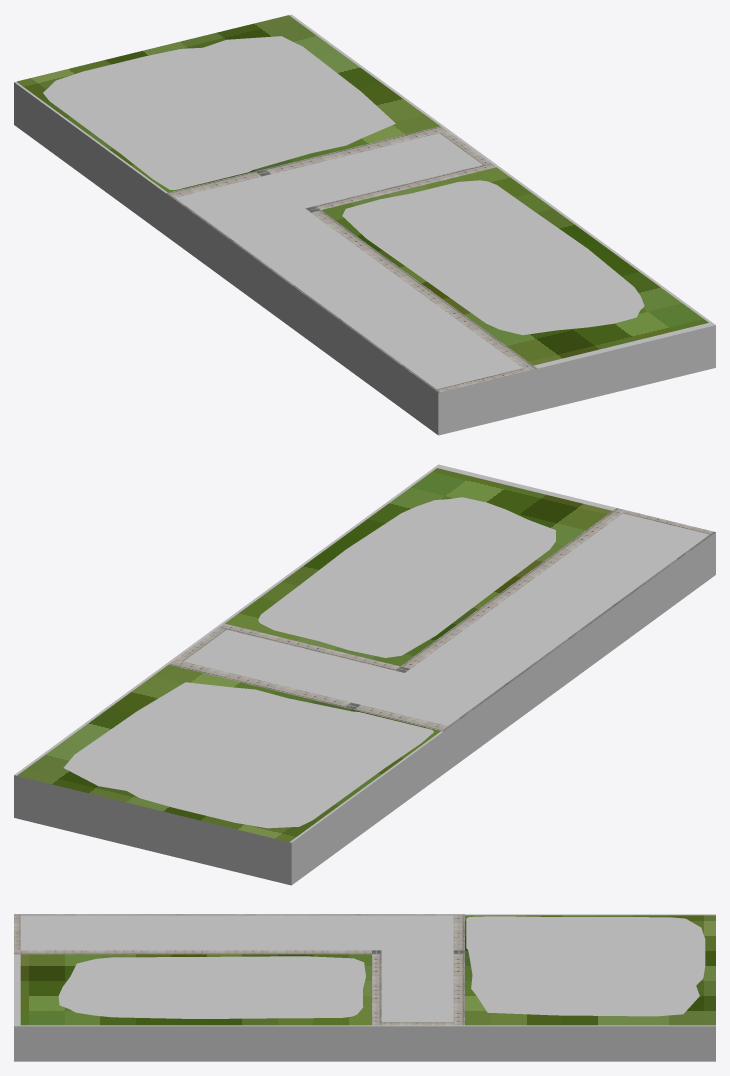
The picture shows the model from 3 angles, top to bottom: view 1: azimuth 30°, elevation 25°; view 2: azimuth 150°, elevation 25°; view 3: azimuth 270°, elevation 25°; orthographic projection. The views are drawn at different scales.
Visible parts, largest first — view 1: BB_020c1; view 2: BB_020c1; view 3: BB_020c1.
Part boxes in pixels (<box>): BB_020c1: <box>14,14,715,435</box>; BB_020c1: <box>14,464,715,885</box>; BB_020c1: <box>14,914,715,1061</box>.
Bounding box in the file's own units: 13.59 × 2 × 36.
